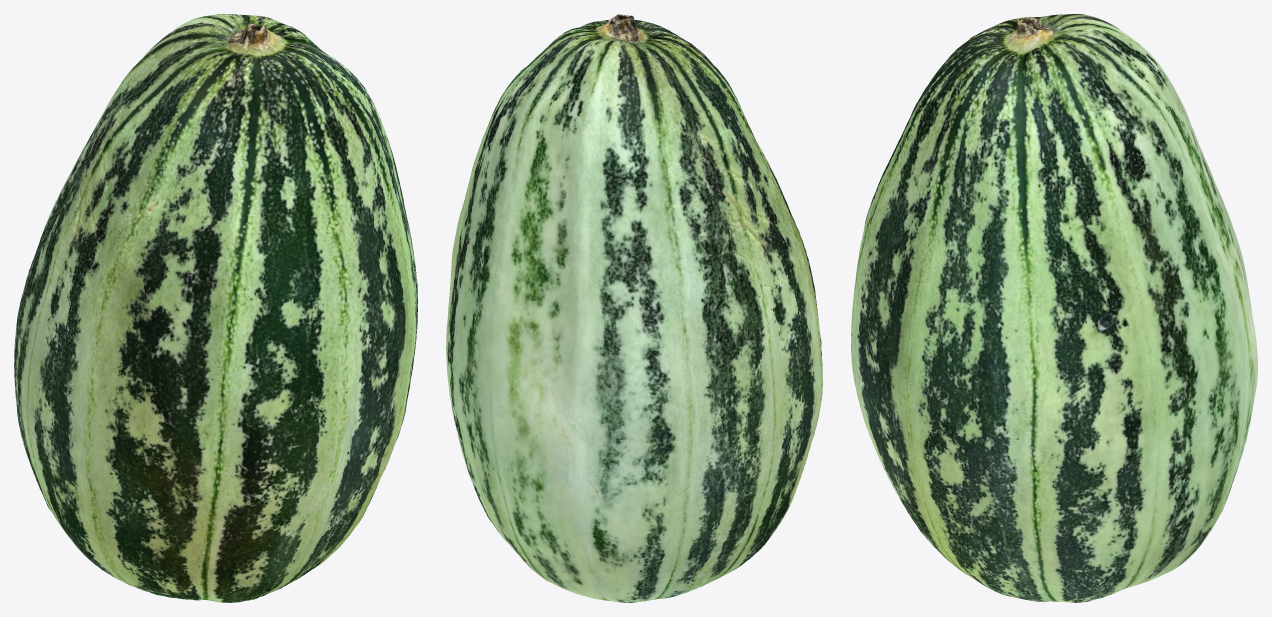
The model's file is piel_de_sapo_santa_claus_meloon.glb.
3 views of the same model, side by side, from view 1: azimuth 30°, elevation 25°; view 2: azimuth 150°, elevation 25°; view 3: azimuth 270°, elevation 25° (orthographic). The views are drawn at different scales.
Parts seen in each view (by area): view 1: Object_4; view 2: Object_4; view 3: Object_4.
Boxes of the visible parts, x1,y1,x2,y2 form: Object_4: (14,14,417,602); Object_4: (446,14,822,602); Object_4: (851,14,1257,602).
Size of the model in its own units: 0.1188 by 0.1823 by 0.1186.
Materials: 1 (1 with a texture image).
